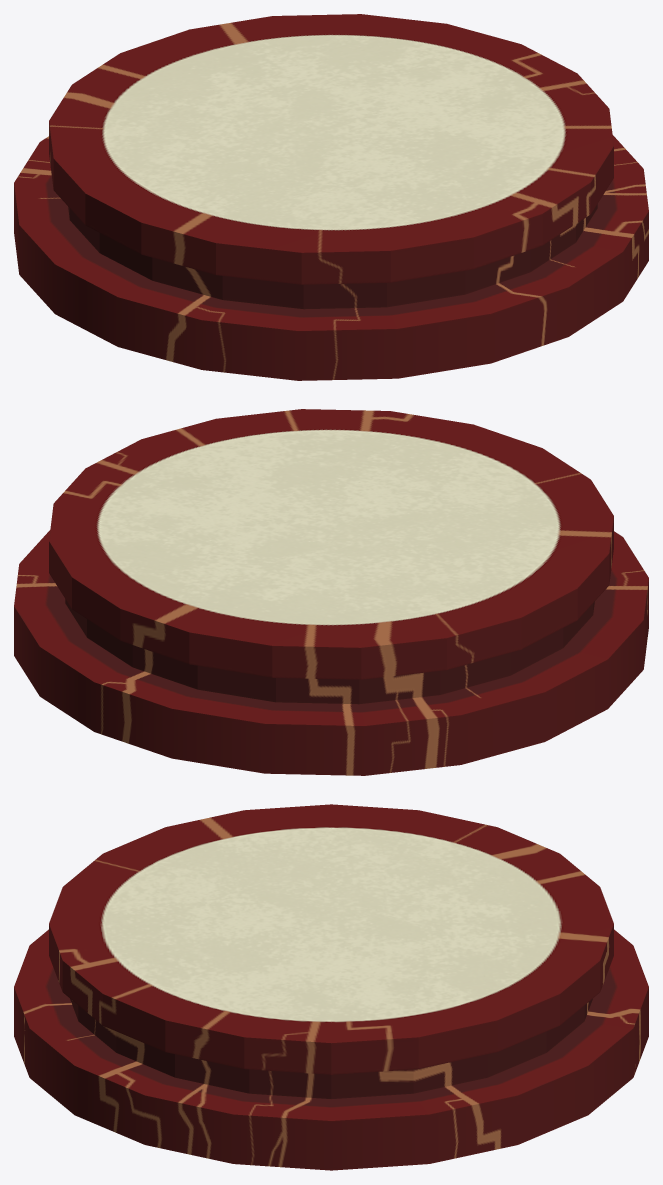
File: Platform_FBX.fbx
The picture shows the model from 3 angles, top to bottom: view 1: azimuth 30°, elevation 25°; view 2: azimuth 150°, elevation 25°; view 3: azimuth 270°, elevation 25°; orthographic projection.
Visible parts, largest first — view 1: Platform; view 2: Platform; view 3: Platform.
Boxes of the visible parts, box(x1,y1,x2,y2) form: Platform: box(14, 14, 648, 380); Platform: box(14, 409, 648, 775); Platform: box(14, 804, 648, 1170).
Size of the model in its own units: 11.69 by 2.32 by 11.69.
